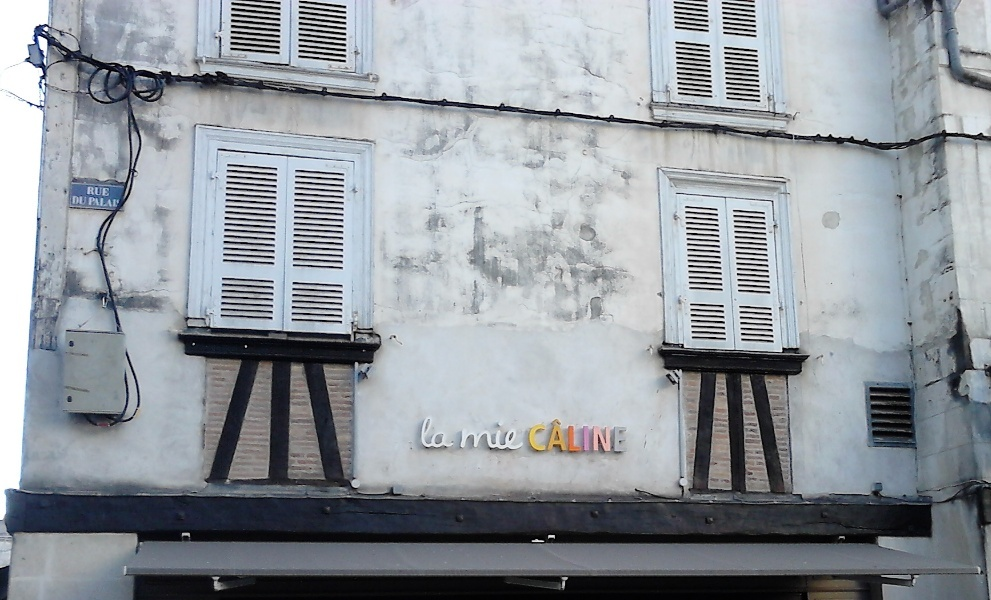text: (433, 415, 448, 450), (529, 419, 544, 453), (545, 419, 560, 453), (561, 419, 576, 453), (577, 419, 592, 453), (593, 419, 608, 453), (609, 419, 624, 453), (465, 419, 480, 451), (481, 419, 496, 451), (497, 419, 512, 451), (420, 415, 432, 450), (513, 419, 524, 451), (449, 415, 455, 450), (97, 197, 112, 209), (97, 186, 110, 197), (625, 419, 629, 453), (113, 197, 123, 209), (87, 186, 96, 197), (72, 194, 80, 206), (81, 194, 89, 206), (89, 197, 96, 209), (462, 419, 464, 451)
